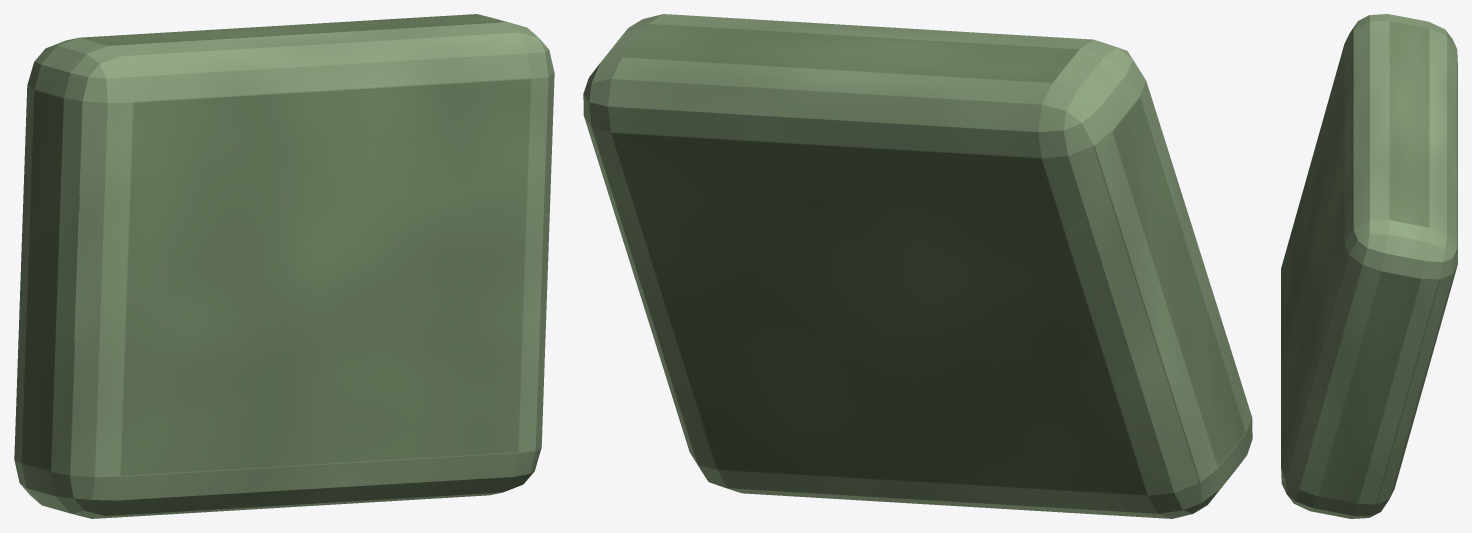
File: 10_Back_Cushion_3.fbx
The picture shows the model from 3 angles, left to right: view 1: azimuth 30°, elevation 25°; view 2: azimuth 150°, elevation 25°; view 3: azimuth 270°, elevation 25°; orthographic projection. The views are drawn at different scales.
Parts seen in each view (by area): view 1: 10_Back_Cushion_3; view 2: 10_Back_Cushion_3; view 3: 10_Back_Cushion_3.
Boxes of the visible parts, bbox=[...] form: 10_Back_Cushion_3: bbox=[14, 14, 554, 518]; 10_Back_Cushion_3: bbox=[583, 14, 1252, 518]; 10_Back_Cushion_3: bbox=[1281, 14, 1457, 518].
Size of the model in its own units: 63.9 by 56.59 by 24.31.
Materials: 1 (1 with a texture image).
